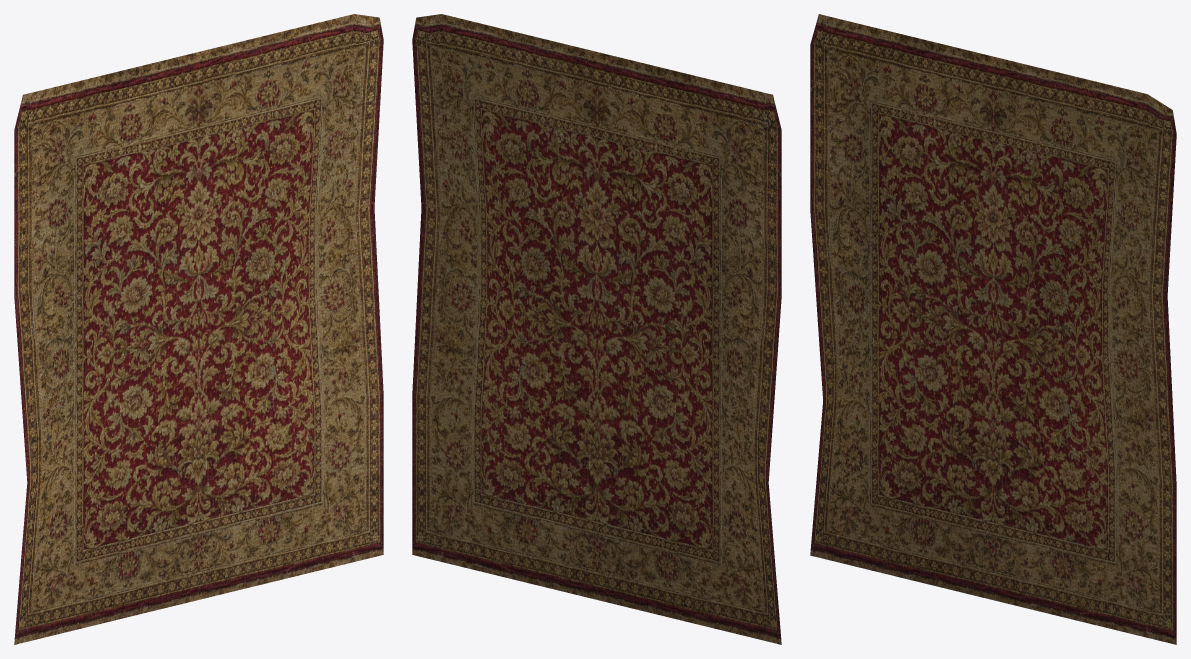
File: mm9_deco_tapestryold02.glb
3 renders of one model, left to right at view 1: azimuth 30°, elevation 25°; view 2: azimuth 150°, elevation 25°; view 3: azimuth 330°, elevation 25°, orthographic.
Visible parts, largest first — view 1: Tapestryold02; view 2: Tapestryold02; view 3: Tapestryold02.
Part boxes in pixels (x1,y1,x2,y2): Tapestryold02: (14,14,383,644); Tapestryold02: (412,14,781,644); Tapestryold02: (810,14,1176,644).
Bounding box in the file's own units: 1.63 × 2.31 × 2.59e-07.
1 material, 1 textured.
